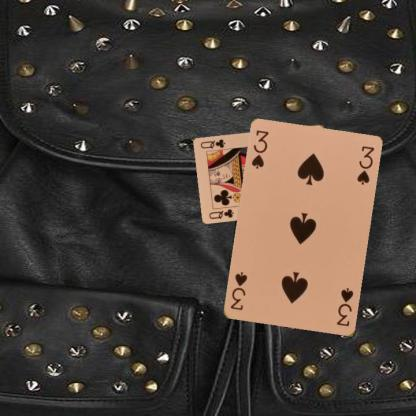3s: (334, 286, 356, 328), (248, 128, 270, 170)
Qc: (206, 206, 235, 220)
